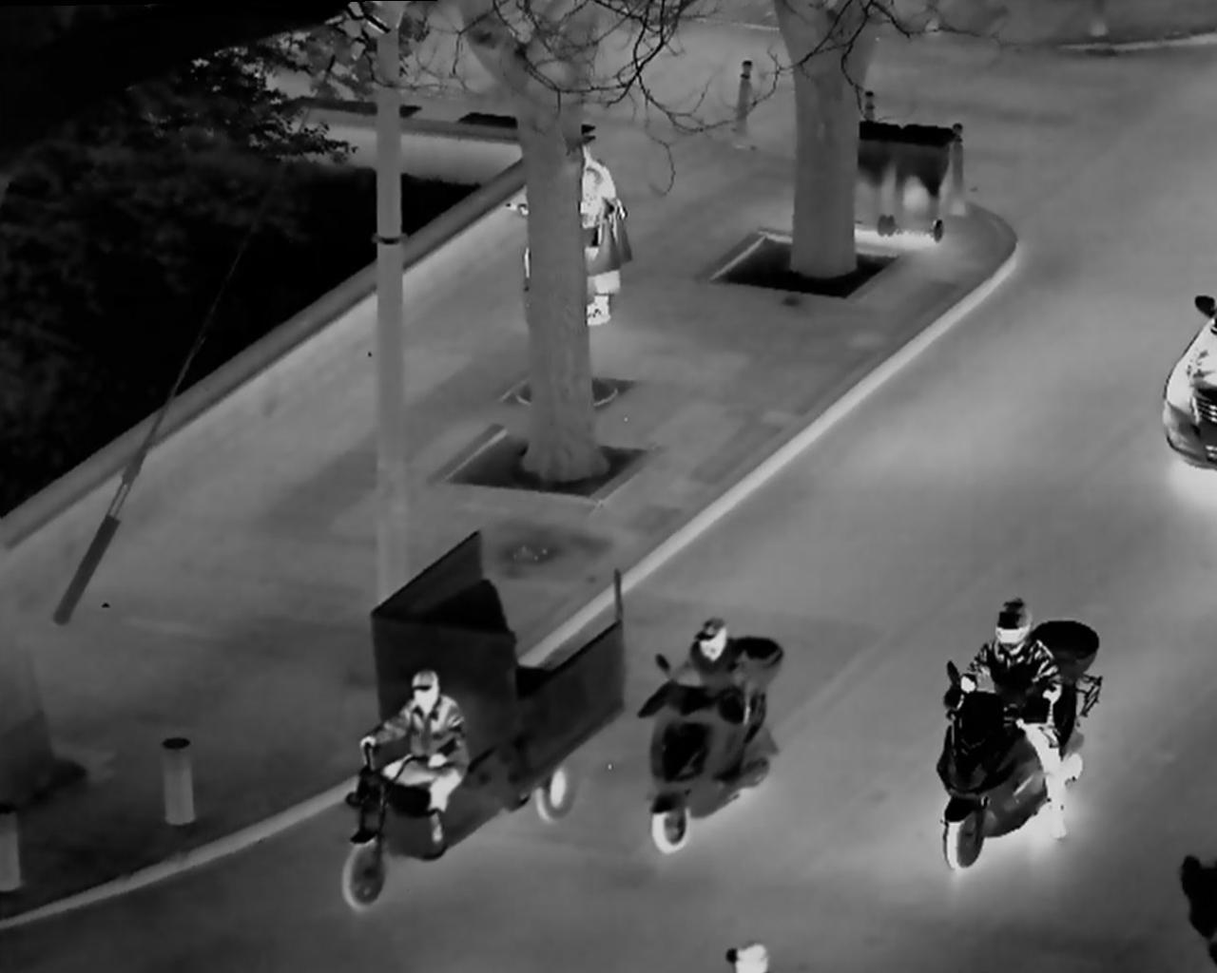person: (922, 570, 1108, 885), (638, 603, 779, 848), (341, 643, 479, 885), (553, 121, 640, 330)
